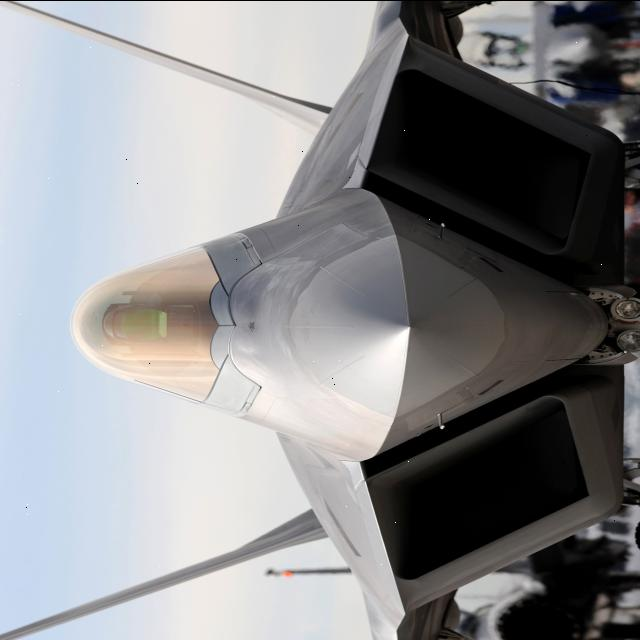F22: (34, 0, 640, 638)
